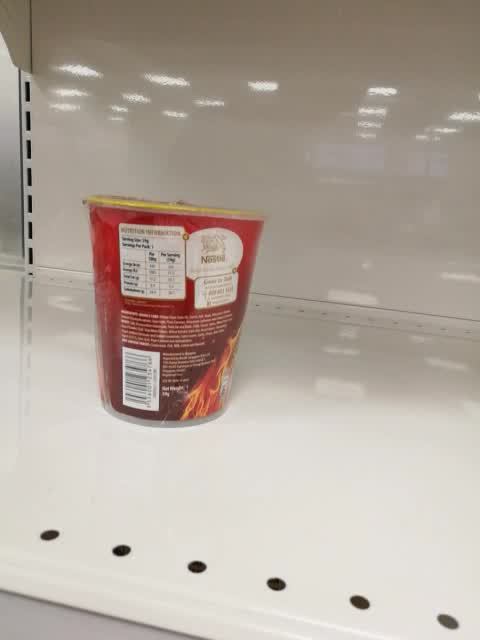maggi: (79, 195, 271, 429)
